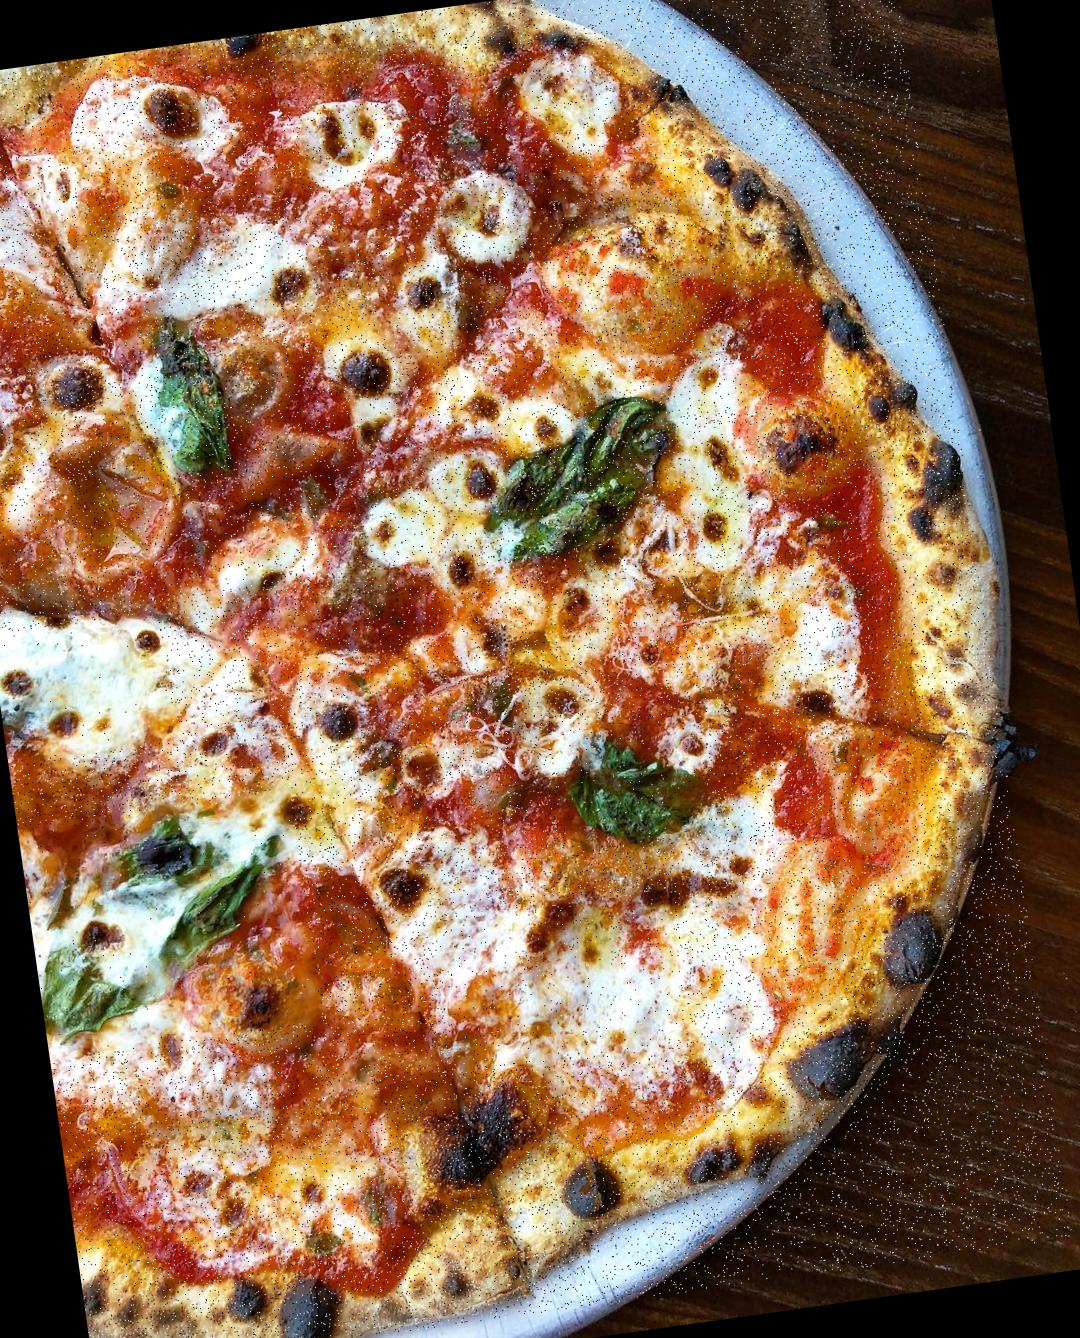Basil: (17, 790, 322, 1058), (467, 399, 685, 559), (551, 713, 711, 852), (149, 315, 245, 485)
Cheese: (436, 891, 687, 1071), (0, 148, 223, 309), (0, 611, 175, 764)
Pizza: (0, 0, 1072, 1338)
